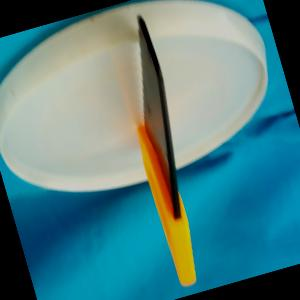serrote: (102, 12, 220, 289)
